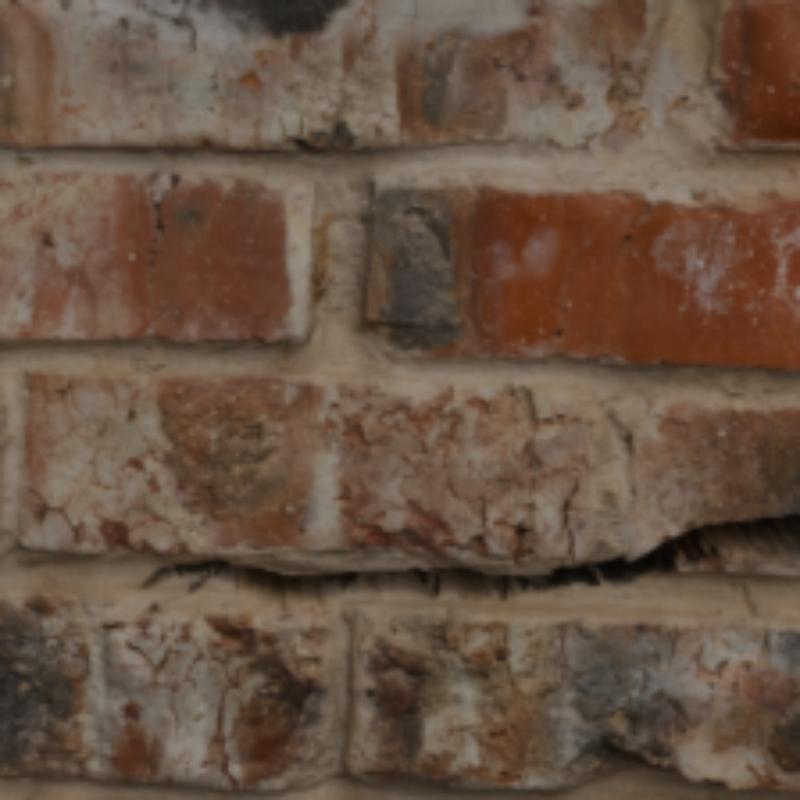pothole: (143, 514, 796, 596)
